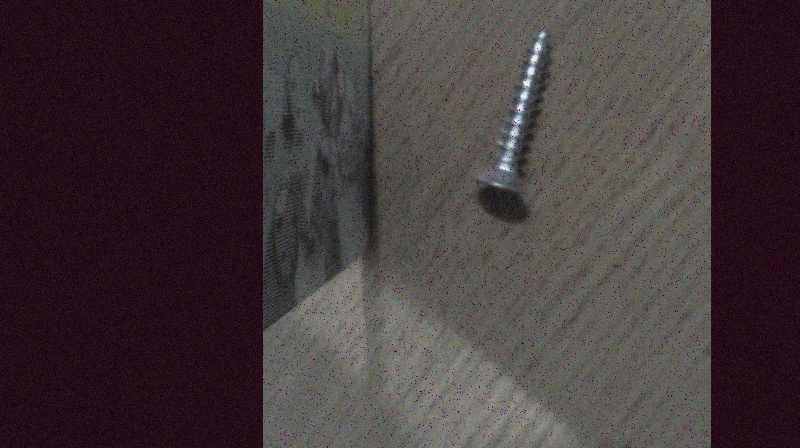S001: (467, 21, 558, 198)
